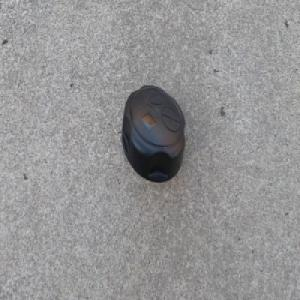FuelCap: (119, 79, 188, 185)
